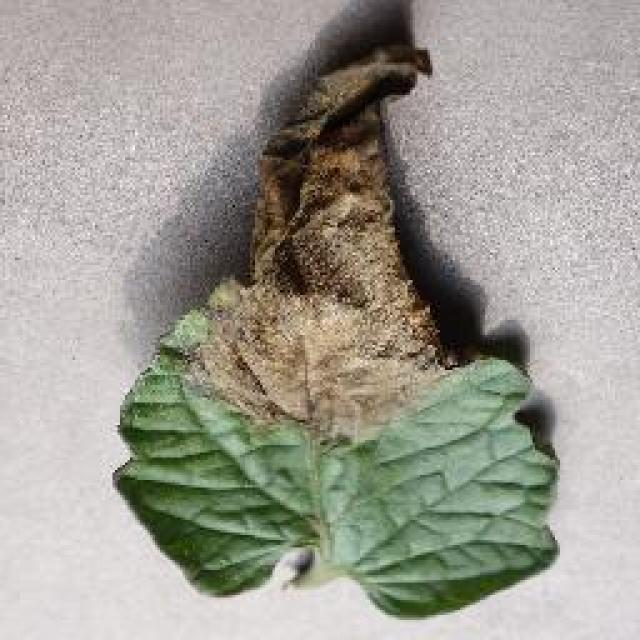Tomato Late Blight: (205, 79, 442, 388)
